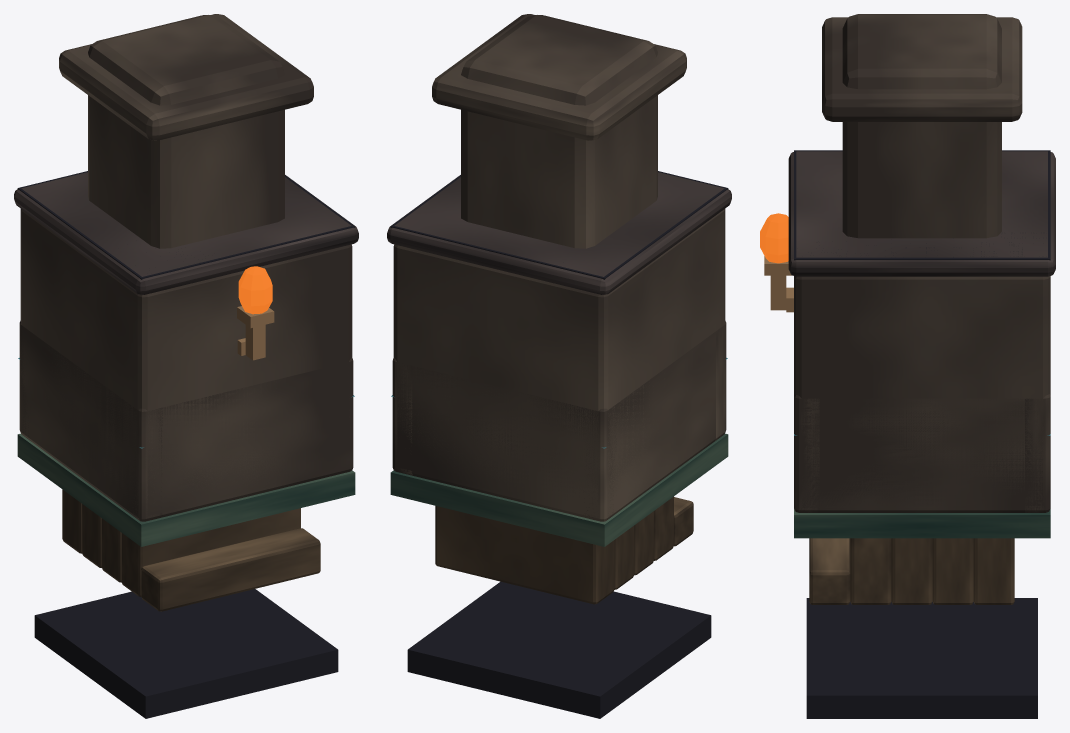
The model's file is kit.glb.
The picture shows the model from 3 angles, left to right: view 1: azimuth 30°, elevation 25°; view 2: azimuth 150°, elevation 25°; view 3: azimuth 270°, elevation 25°; orthographic projection. The views are drawn at different scales.
Visible parts, largest first — view 1: STAIRS, WALL, PILLAR, WALL_TOP, PIT, FLAME, VOID, TORCH; view 2: STAIRS, WALL, PILLAR, WALL_TOP, PIT, VOID; view 3: STAIRS, WALL, PILLAR, WALL_TOP, PIT, VOID, FLAME, TORCH.
Part boxes in pixels (x1,y1,x2,y2): STAIRS: (19,320,353,718); WALL: (20,209,352,516); PILLAR: (59,14,313,248); WALL_TOP: (14,172,358,294); PIT: (17,433,355,546); FLAME: (238,266,272,314); VOID: (17,171,355,279); TORCH: (237,306,274,360); STAIRS: (392,320,726,718); WALL: (393,209,725,516); PILLAR: (432,14,686,248); WALL_TOP: (387,172,731,294); PIT: (390,433,728,546); VOID: (390,171,728,279); STAIRS: (794,394,1050,718); WALL: (794,276,1050,507); PILLAR: (822,14,1022,238); WALL_TOP: (788,151,1055,276); PIT: (794,509,1050,538); VOID: (794,150,1050,260); FLAME: (760,213,788,263); TORCH: (764,256,793,312).
Size of the model in its own units: 1.04 by 2.7 by 1.15.
Materials: 10 (6 with a texture image).
